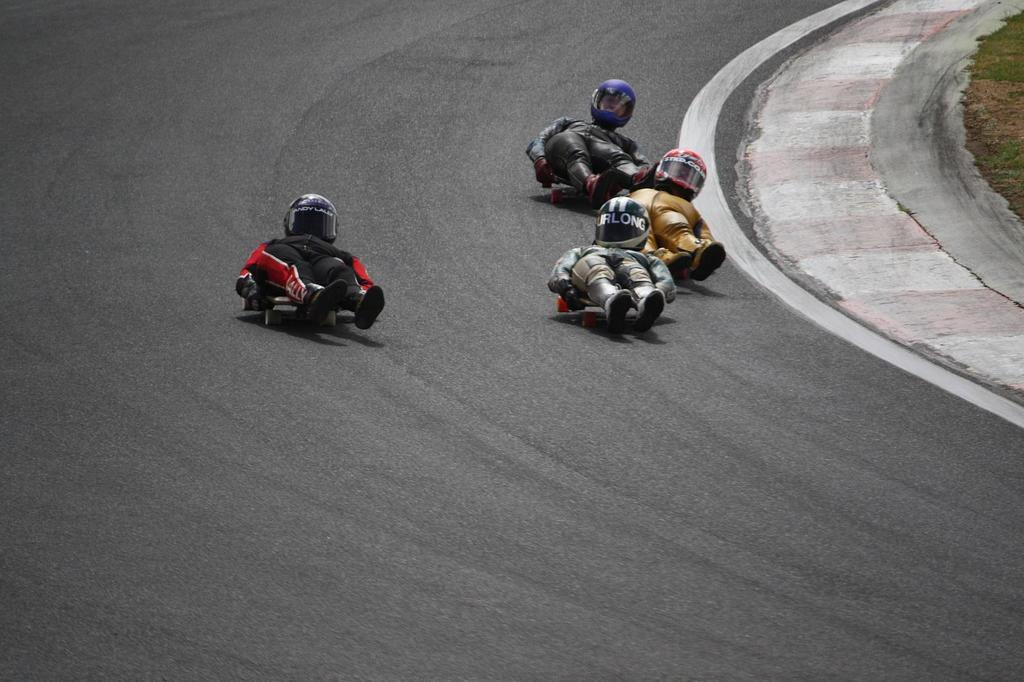helmet: (594, 196, 650, 252), (654, 147, 708, 202), (284, 193, 338, 245), (591, 79, 637, 128)
